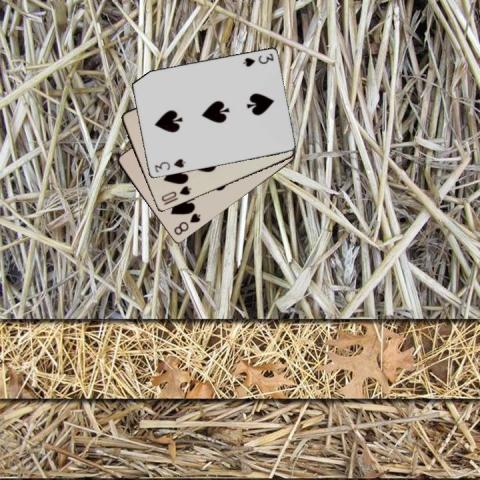10s: (158, 184, 192, 204)
3s: (151, 156, 187, 174), (240, 51, 275, 68)
8s: (171, 210, 202, 237)
